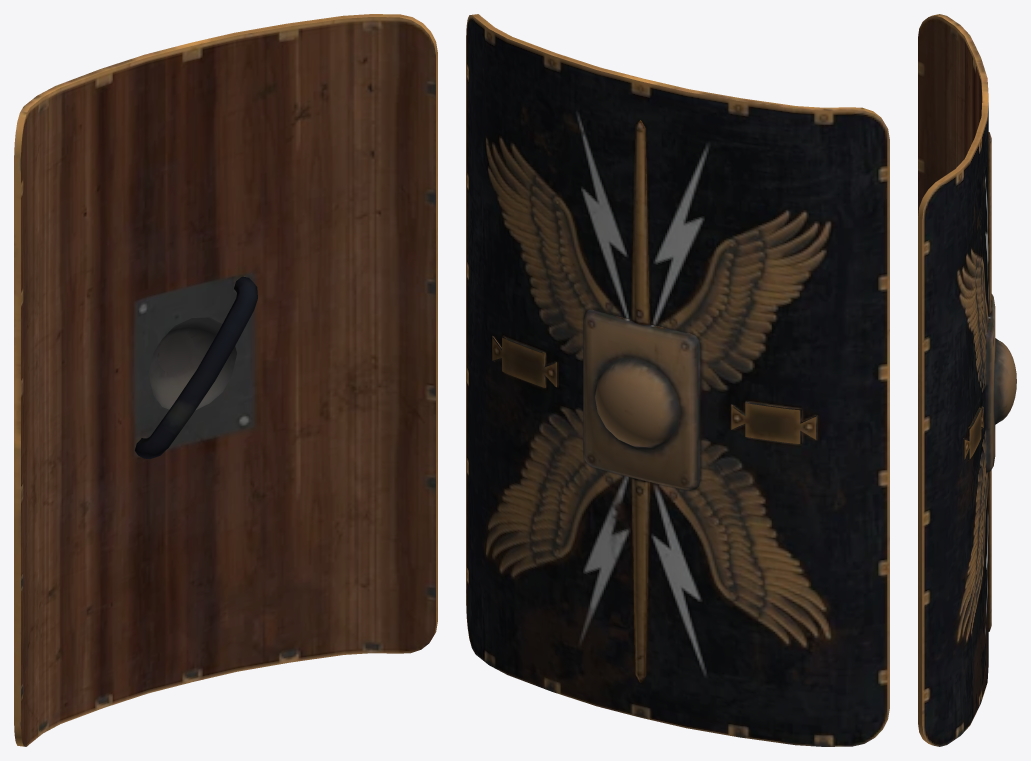
Rendered from roman_shield.glb.
The picture shows the model from 3 angles, left to right: view 1: azimuth 30°, elevation 25°; view 2: azimuth 150°, elevation 25°; view 3: azimuth 270°, elevation 25°; orthographic projection. The views are drawn at different scales.
Visible parts, largest first — view 1: Roman shield_1,02.006_Roman shield_0; view 2: Roman shield_1,02.006_Roman shield_0; view 3: Roman shield_1,02.006_Roman shield_0.
Boxes of the visible parts, x1,y1,x2,y2 form: Roman shield_1,02.006_Roman shield_0: (14, 14, 437, 746); Roman shield_1,02.006_Roman shield_0: (466, 14, 889, 746); Roman shield_1,02.006_Roman shield_0: (918, 14, 1016, 746).
Bounding box in the file's own units: 3.55 × 5.09 × 0.8067.
Materials: 1 (1 with a texture image).
